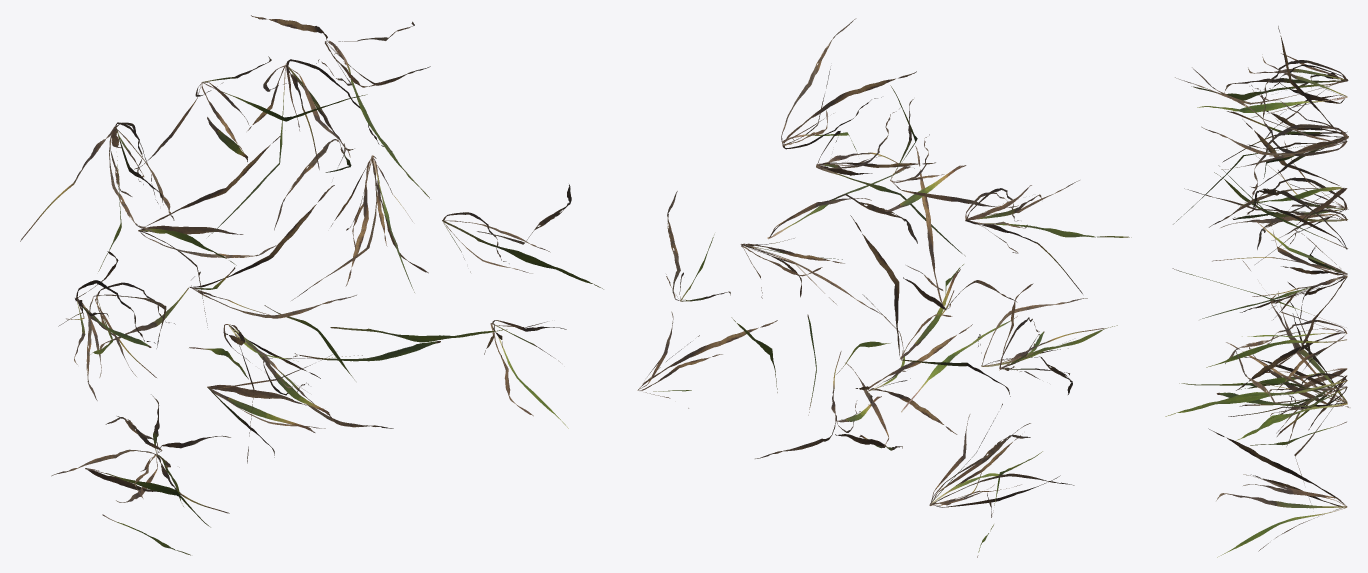
File: Grass_03_Var2_LOD1.fbx
The picture shows the model from 3 angles, left to right: view 1: azimuth 30°, elevation 25°; view 2: azimuth 150°, elevation 25°; view 3: azimuth 270°, elevation 25°; orthographic projection. The views are drawn at different scales.
Visible parts, largest first — view 1: Var2_LOD1; view 2: Var2_LOD1; view 3: Var2_LOD1.
Part boxes in pixels (x1=…): Var2_LOD1: x1=20, y1=15, x2=603, y2=555; Var2_LOD1: x1=637, y1=18, x2=1131, y2=557; Var2_LOD1: x1=1165, y1=26, x2=1350, y2=557.
Bounding box in the file's own units: 61.09 × 57.66 × 21.26.
